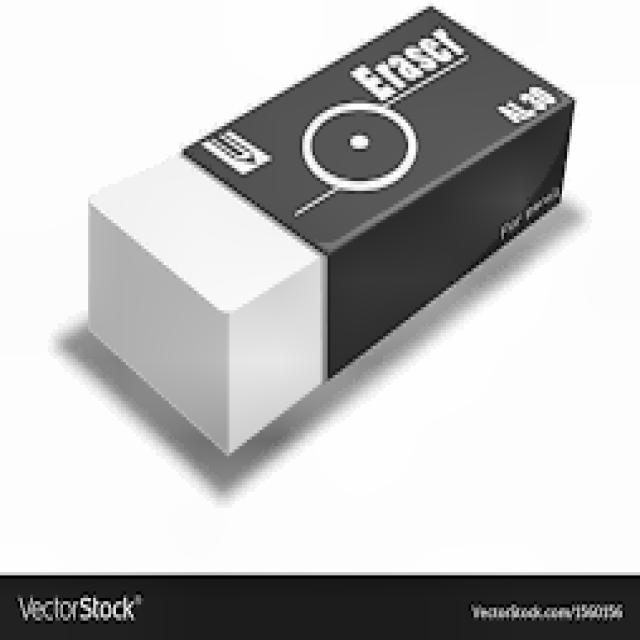eraser: (76, 0, 577, 459)
